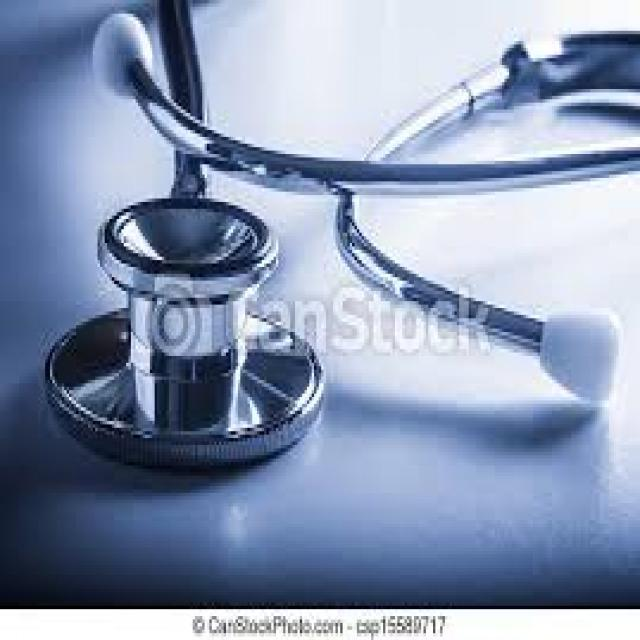stethoscope: (61, 1, 621, 486)
